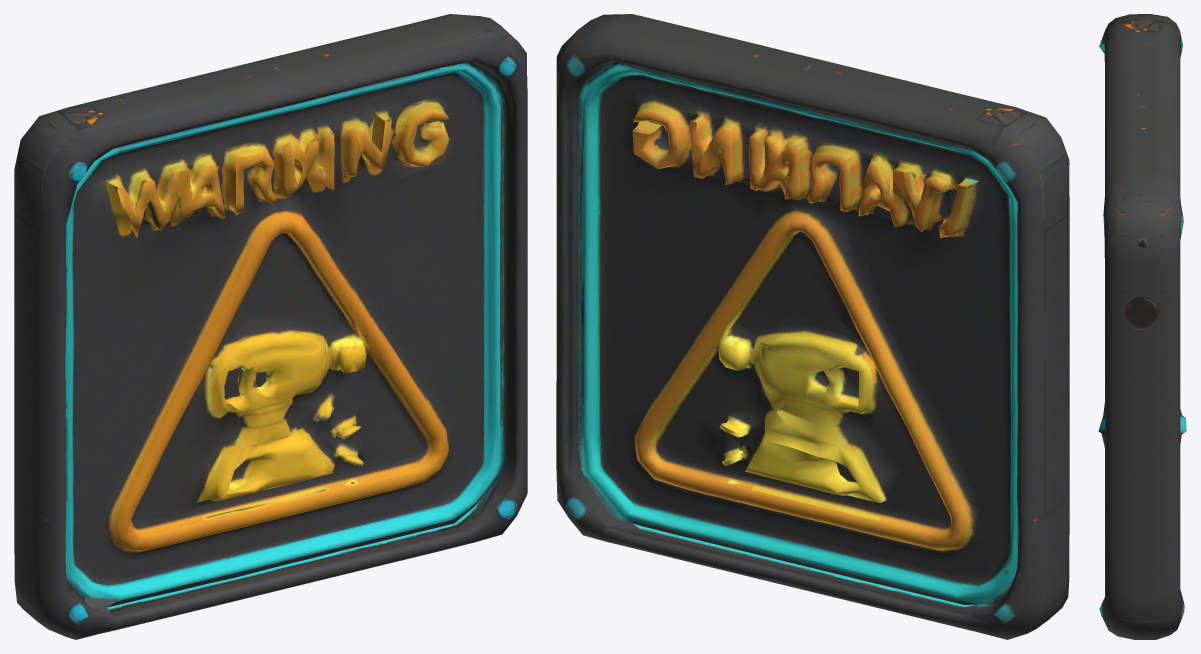
Rendered from Warning_Robotics_Sign_0926201045_texture.fbx.
3 renders of one model, left to right at view 1: azimuth 30°, elevation 25°; view 2: azimuth 150°, elevation 25°; view 3: azimuth 270°, elevation 25°, orthographic. The views are drawn at different scales.
Parts seen in each view (by area): view 1: Mesh0; view 2: Mesh0; view 3: Mesh0.
Part boxes in pixels (<box>): Mesh0: <box>14,14,527,639</box>; Mesh0: <box>556,14,1069,639</box>; Mesh0: <box>1098,14,1186,639</box>.
Size of the model in its own units: 191 by 191 by 34.44.
Materials: 1 (1 with a texture image).
